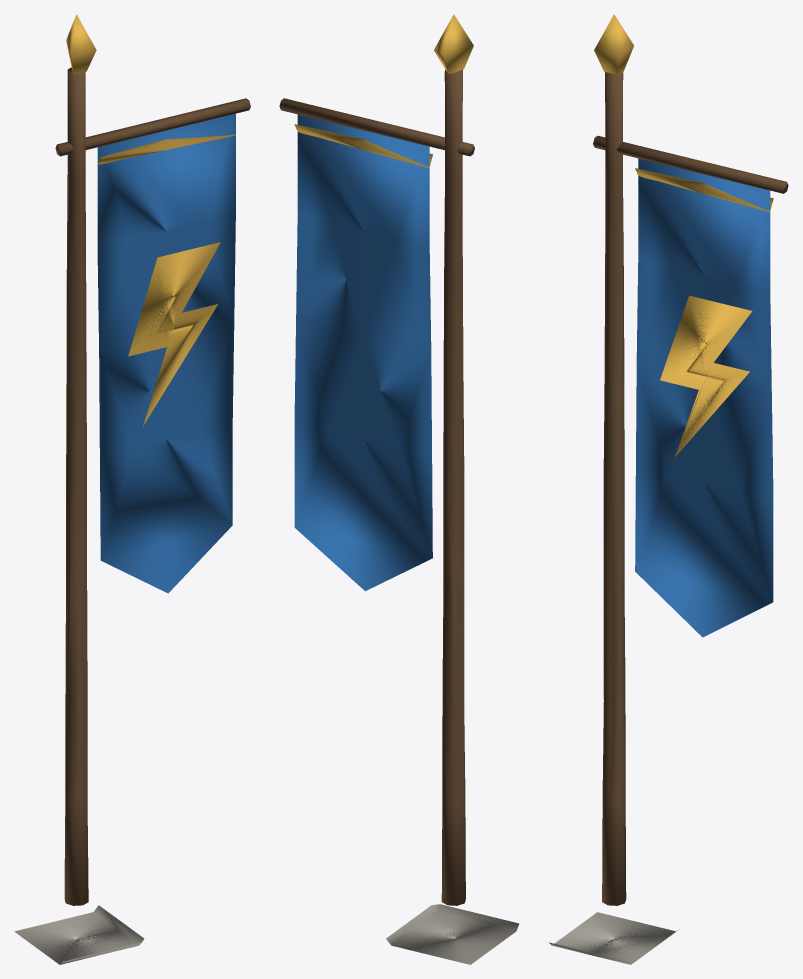
File: decor_banner_t1_azure.glb
3 renders of one model, left to right at view 1: azimuth 30°, elevation 25°; view 2: azimuth 150°, elevation 25°; view 3: azimuth 330°, elevation 25°, orthographic.
Visible parts, largest first — view 1: cloth_azure, wood_dark, gold, step; view 2: cloth_azure, wood_dark, step, gold; view 3: cloth_azure, wood_dark, gold, step.
Boxes of the visible parts, x1,y1,x2,y2 form: cloth_azure: (97, 113, 235, 593); wood_dark: (55, 67, 250, 905); gold: (66, 14, 235, 426); step: (14, 905, 144, 964); cloth_azure: (294, 114, 432, 591); wood_dark: (279, 69, 474, 905); step: (386, 904, 519, 964); gold: (294, 14, 473, 168); cloth_azure: (635, 158, 773, 637); wood_dark: (593, 72, 788, 905); gold: (594, 14, 773, 457); step: (549, 912, 679, 964).
Size of the model in its own units: 1.18 by 4.9 by 0.47.
